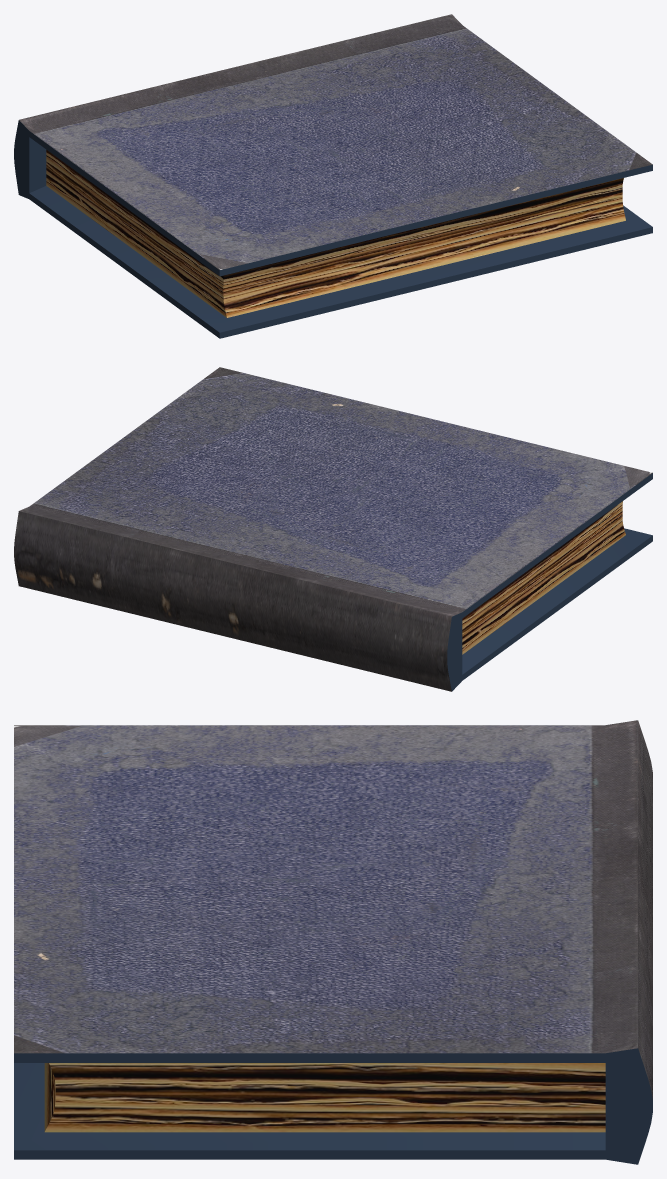
The model's file is blue_book_generic.fbx.
The picture shows the model from 3 angles, top to bottom: view 1: azimuth 30°, elevation 25°; view 2: azimuth 150°, elevation 25°; view 3: azimuth 270°, elevation 25°; orthographic projection. The views are drawn at different scales.
Parts seen in each view (by area): view 1: pCube1; view 2: pCube1; view 3: pCube1.
Part boxes in pixels (left/top/right/bottom): pCube1: left=14, top=14, right=652, bottom=338; pCube1: left=14, top=367, right=652, bottom=691; pCube1: left=14, top=720, right=652, bottom=1164.
Bounding box in the file's own units: 10.18 × 1.69 × 8.38.
3 materials, 2 textured.
